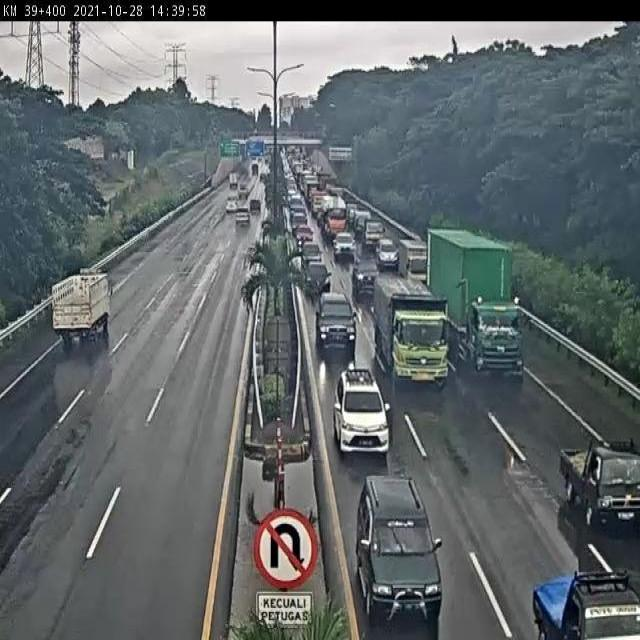big truck: (430, 231, 524, 377), (372, 277, 449, 387)
car: (356, 475, 441, 617), (529, 570, 640, 640), (560, 436, 640, 520), (333, 368, 390, 449), (316, 294, 355, 349), (306, 263, 330, 297), (362, 216, 387, 248), (351, 256, 375, 289), (376, 240, 398, 267), (300, 241, 322, 268), (334, 231, 353, 256)
mid truck: (52, 271, 111, 344)
small truck: (397, 237, 430, 280)
